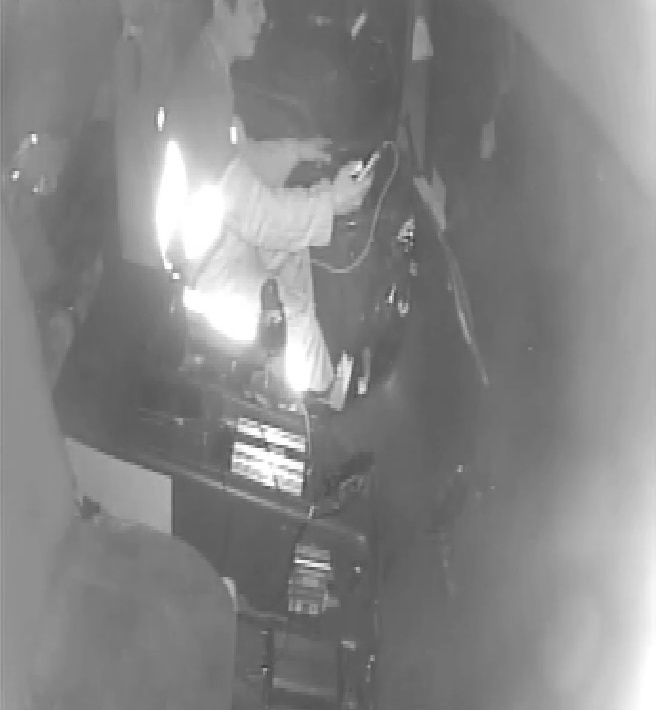cellphone: (339, 150, 385, 191)
